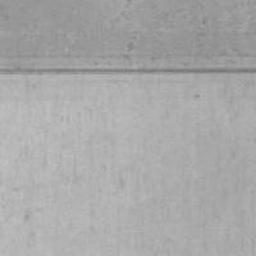Welding line: (0, 67, 256, 76)
